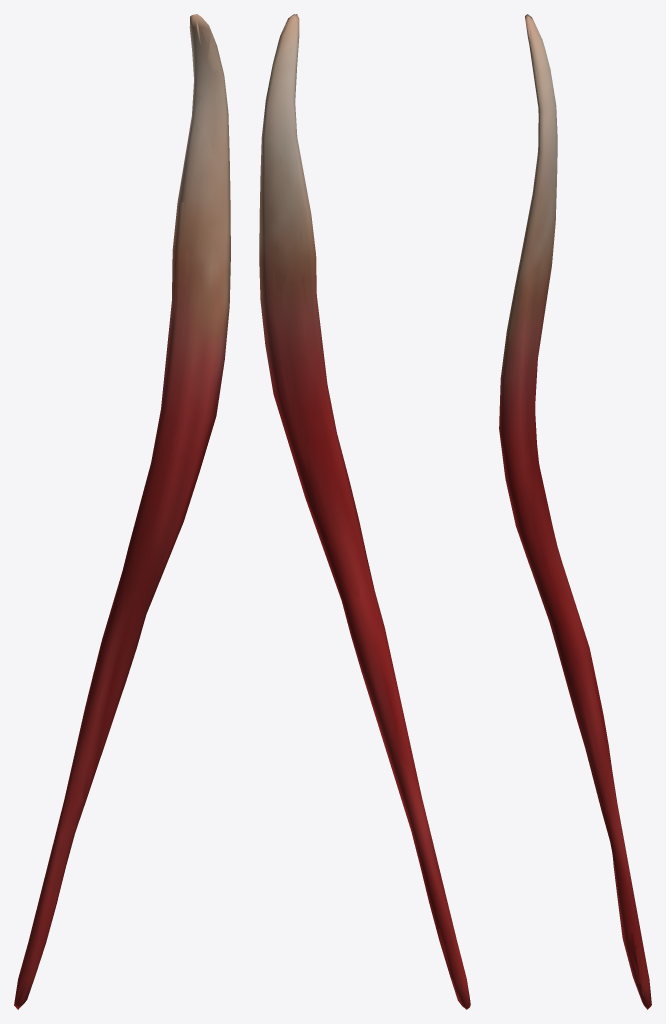
Rendered from L Brachioradialis.fbx.
The picture shows the model from 3 angles, left to right: view 1: azimuth 30°, elevation 25°; view 2: azimuth 210°, elevation 25°; view 3: azimuth 270°, elevation 25°; orthographic projection. The views are drawn at different scales.
Visible parts, largest first — view 1: L Brachioradialis, L Brachioradialis low, L Brachioradialis high; view 2: L Brachioradialis, L Brachioradialis low, L Brachioradialis high; view 3: L Brachioradialis, L Brachioradialis low, L Brachioradialis high.
Part boxes in pixels (x1,y1,x2,y2): L Brachioradialis: [14, 14, 230, 1009]; L Brachioradialis low: [17, 14, 228, 1004]; L Brachioradialis high: [23, 30, 228, 965]; L Brachioradialis: [259, 14, 470, 1009]; L Brachioradialis low: [260, 15, 464, 1005]; L Brachioradialis high: [263, 26, 457, 993]; L Brachioradialis: [499, 14, 651, 1009]; L Brachioradialis low: [500, 18, 648, 1006]; L Brachioradialis high: [501, 29, 643, 995].
Size of the model in its own units: 1.11 by 6.51 by 0.8546.
1 material, 1 textured.
